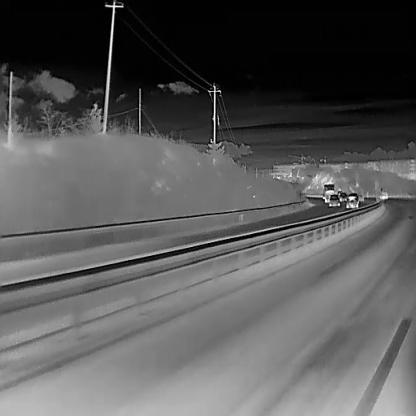car: (345, 192, 358, 209), (328, 192, 340, 206), (378, 187, 388, 200), (337, 191, 347, 202), (336, 190, 343, 198)
truck: (322, 183, 336, 203)
